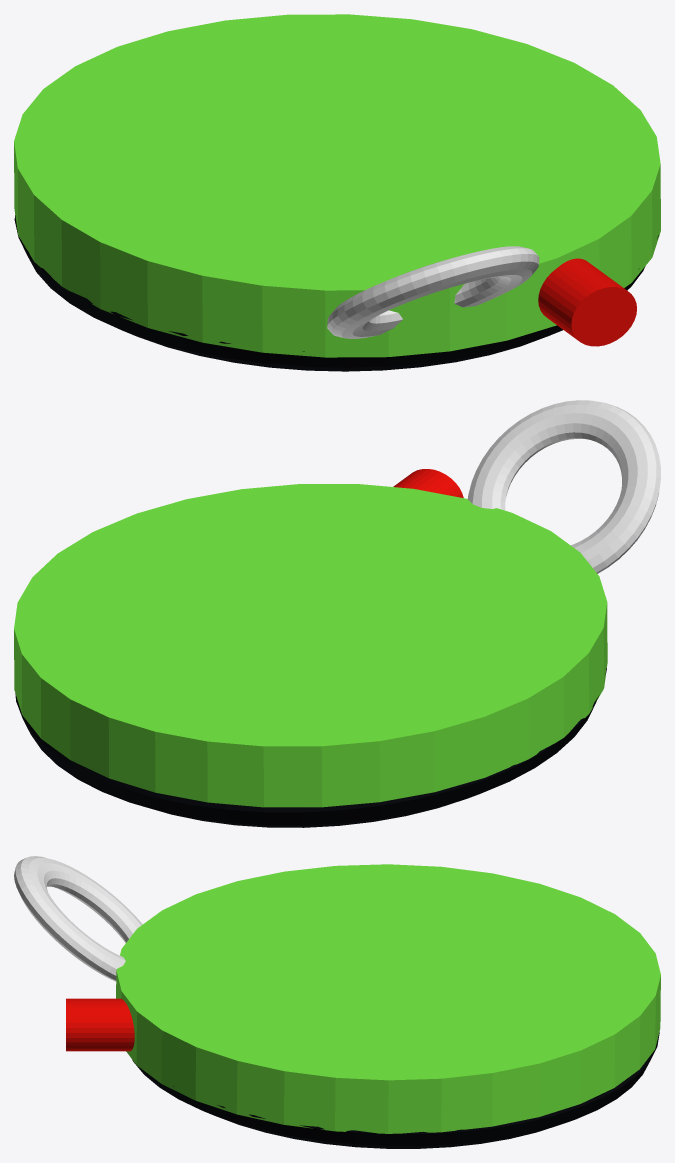
Rendered from Clock.fbx.
3 renders of one model, top to bottom at view 1: azimuth 30°, elevation 25°; view 2: azimuth 150°, elevation 25°; view 3: azimuth 270°, elevation 25°, orthographic. The views are drawn at different scales.
Visible parts, largest first — view 1: Clock; view 2: Clock; view 3: Clock.
Boxes of the visible parts, x1,y1,x2,y2 form: Clock: (14,14,660,371); Clock: (14,400,660,827); Clock: (14,856,660,1148).
Size of the model in its own units: 2.93 by 1 by 3.7.
